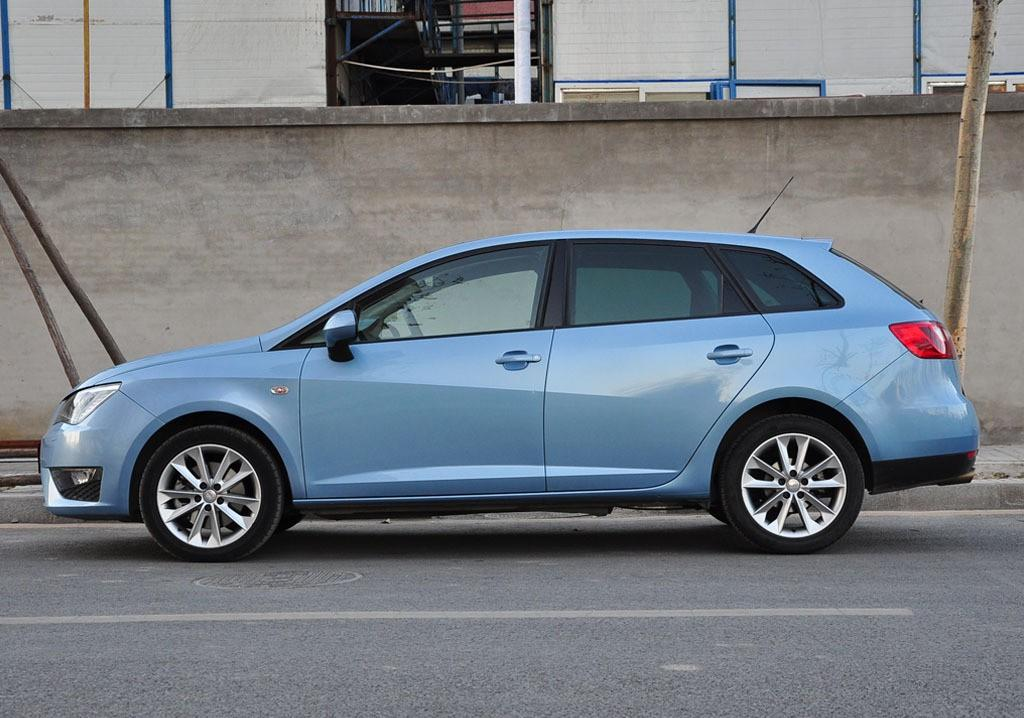Wagon: (39, 232, 980, 560)
